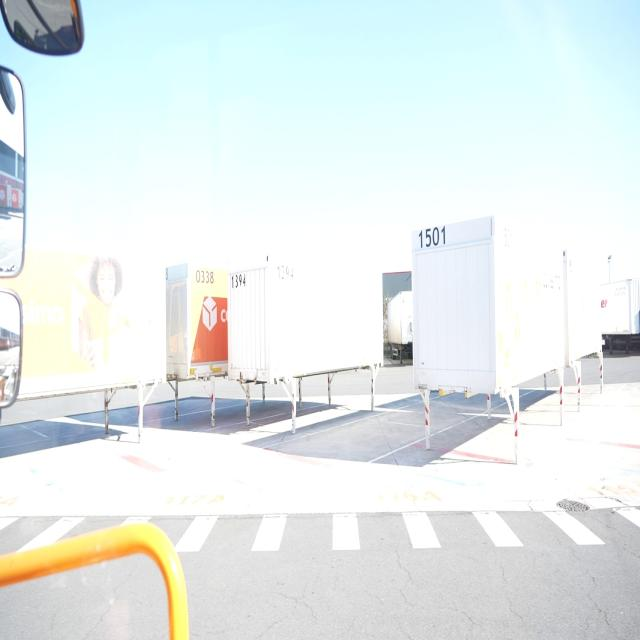Code: (414, 222, 448, 256), (194, 270, 219, 288), (229, 272, 250, 290)
